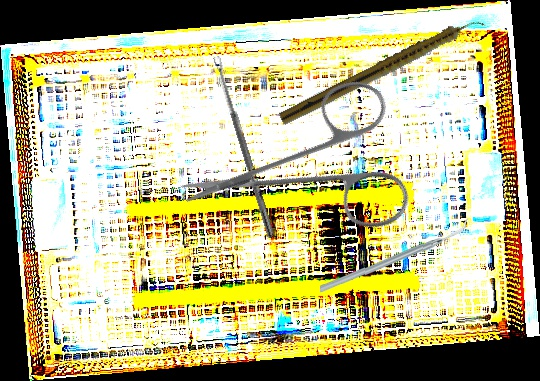Chopper: (320, 215, 468, 297)
Handpiece: (277, 10, 488, 131)
Iris Scissors: (174, 27, 453, 305)
Surgical Spoon: (213, 55, 276, 239)
